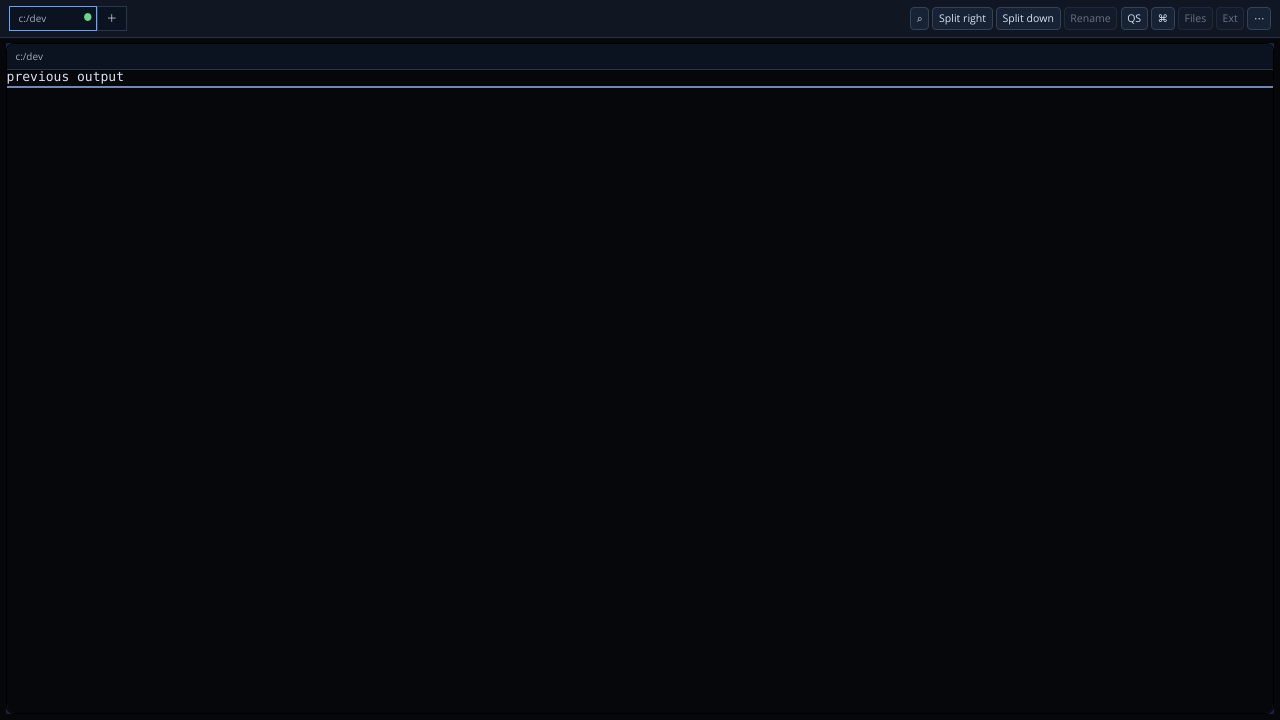
Test case: persistent terminal terminal-state notices › shows stopped state after stopping the final tab without creating a replacement
This screenshot has width=1280, height=720.
Click the button named "Open terminal actions menu" at coordinates (1259, 18), box [1248,7,1271,30]
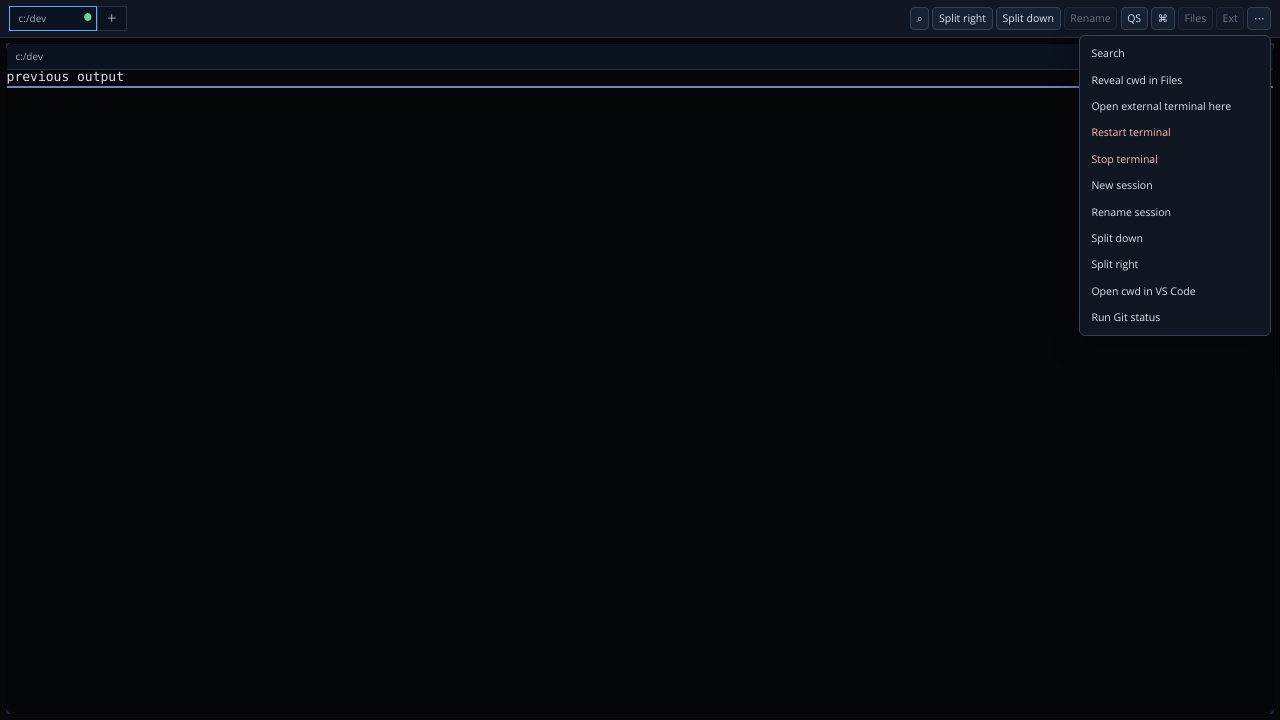
Click the menu item "Stop terminal" at coordinates (1175, 159), box [1086,148,1265,171]
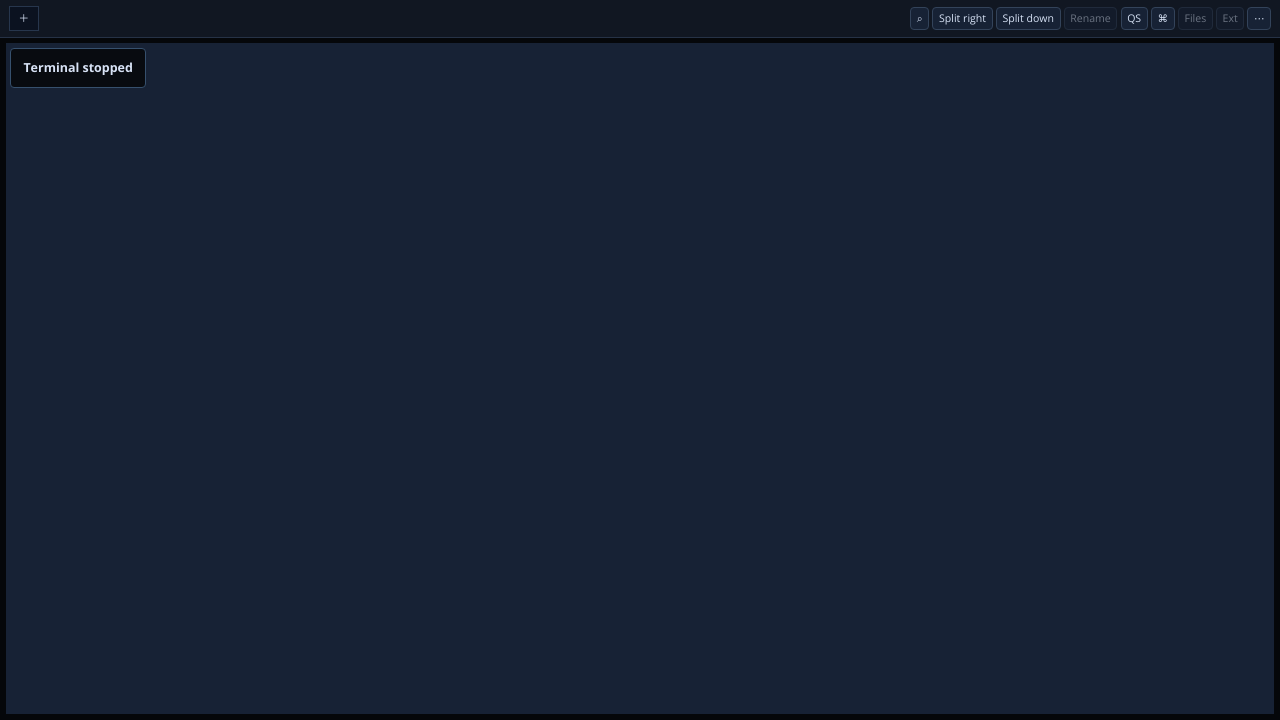
Expected: no tabs are shown
Expected: the number of messages is 1, [10,48,146,88]
Expected: the message reads "Terminal stopped", [23,59,133,76]
